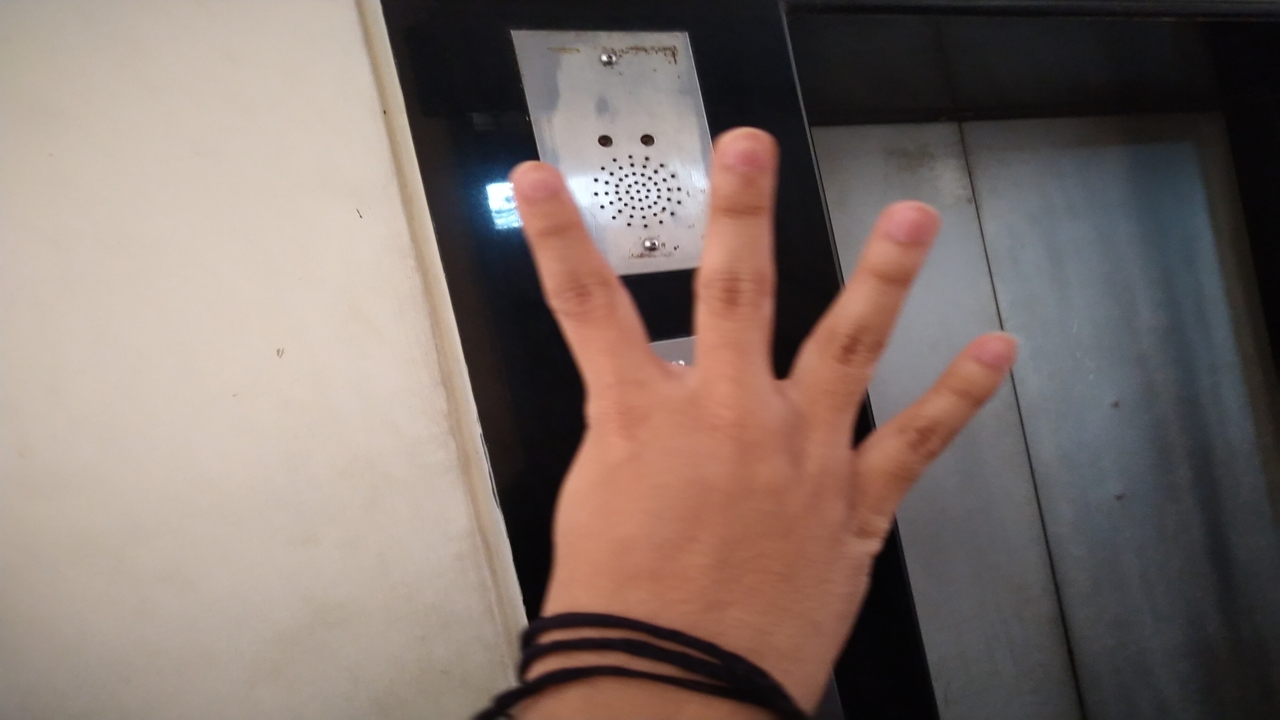fingertip: (876, 192, 950, 254), (714, 126, 780, 186), (958, 330, 1026, 386), (508, 154, 568, 210)
